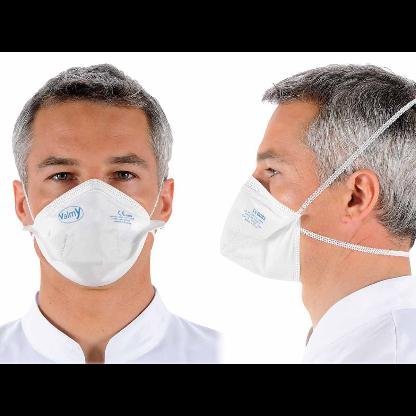FFP Mask: (218, 94, 412, 288), (11, 115, 170, 290)
